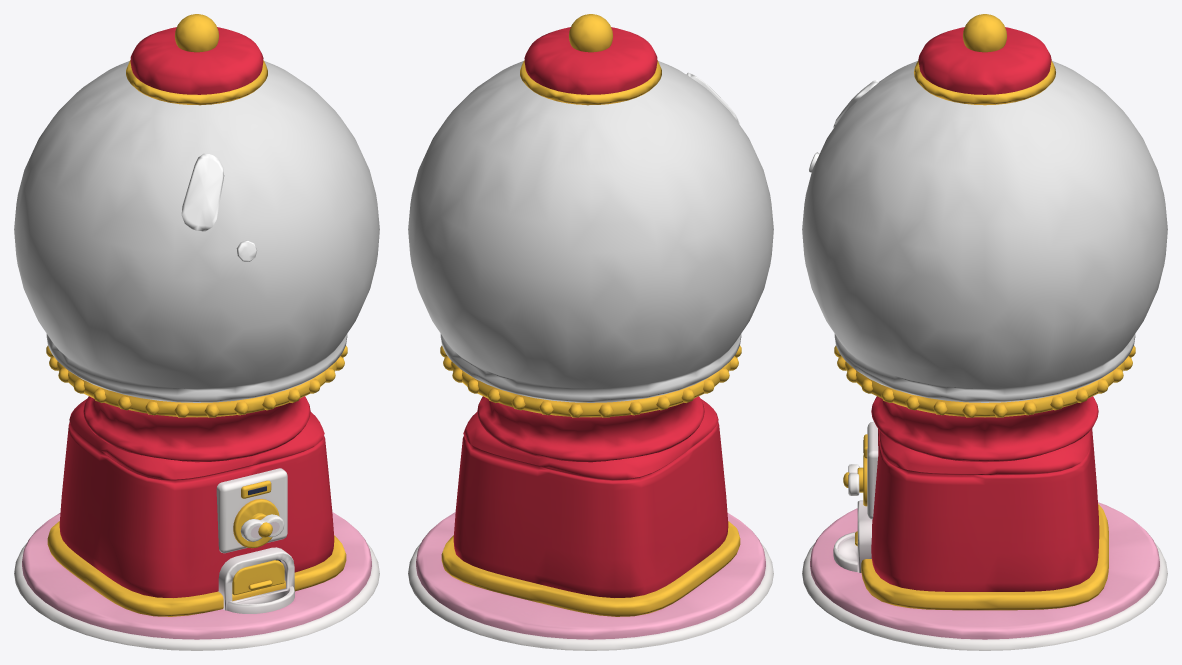
The model's file is Hub_Machine.fbx.
3 views of the same model, side by side, from view 1: azimuth 30°, elevation 25°; view 2: azimuth 150°, elevation 25°; view 3: azimuth 270°, elevation 25° (orthographic).
Parts seen in each view (by area): view 1: Machine_Glass, Machine_Body, Machine_Shine, Machine_Flap, Machine_Knob; view 2: Machine_Glass, Machine_Body; view 3: Machine_Glass, Machine_Body, Machine_Knob.
Part boxes in pixels (left/top/right/bottom): Machine_Glass: left=14, top=61, right=379, bottom=402; Machine_Body: left=14, top=14, right=379, bottom=650; Machine_Shine: left=181, top=153, right=256, bottom=261; Machine_Flap: left=232, top=560, right=284, bottom=595; Machine_Knob: left=240, top=513, right=284, bottom=541; Machine_Glass: left=408, top=61, right=773, bottom=402; Machine_Body: left=408, top=14, right=773, bottom=650; Machine_Glass: left=802, top=61, right=1167, bottom=402; Machine_Body: left=802, top=14, right=1167, bottom=650; Machine_Knob: left=843, top=464, right=863, bottom=495.
Bounding box in the file's own units: 28 × 47.09 × 28.
3 materials, 1 textured.
